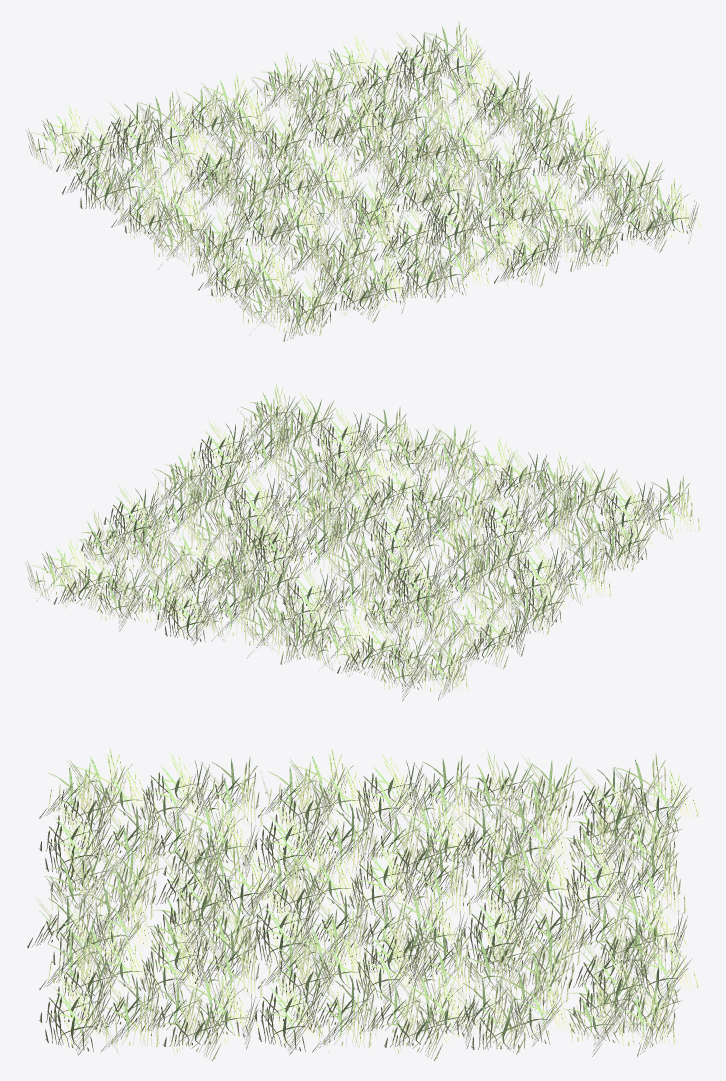
File: Grass.fbx
3 views of the same model, one above another, from view 1: azimuth 30°, elevation 25°; view 2: azimuth 150°, elevation 25°; view 3: azimuth 270°, elevation 25° (orthographic). The views are drawn at different scales.
Visible parts, largest first — view 1: grassP.002; view 2: grassP.002; view 3: grassP.002.
Boxes of the visible parts, left/top/right/bottom form: grassP.002: left=25, top=21, right=700, bottom=341; grassP.002: left=25, top=383, right=700, bottom=700; grassP.002: left=27, top=746, right=698, bottom=1061.
Size of the model in its own units: 422 by 33.1 by 436.
